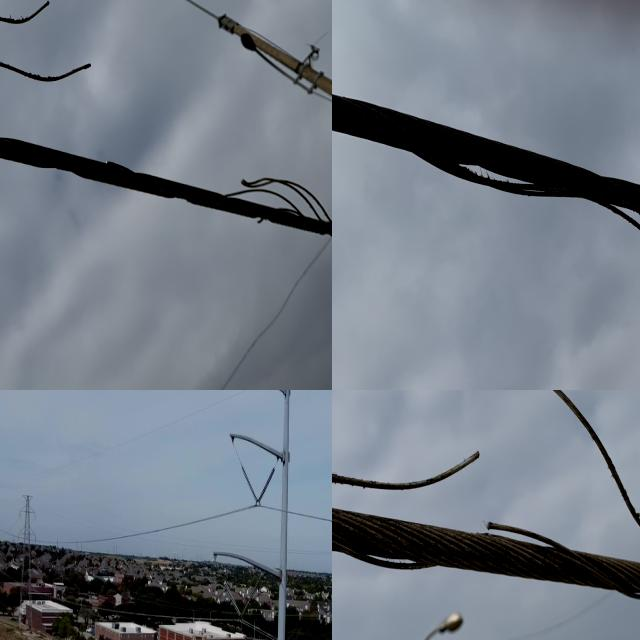杆塔: (16, 488, 45, 624)
正常绝缘子: (252, 465, 277, 511), (237, 578, 262, 622), (221, 578, 245, 620), (240, 464, 262, 508)
电缆破损: (0, 0, 332, 247), (332, 390, 640, 615), (422, 107, 640, 267)
